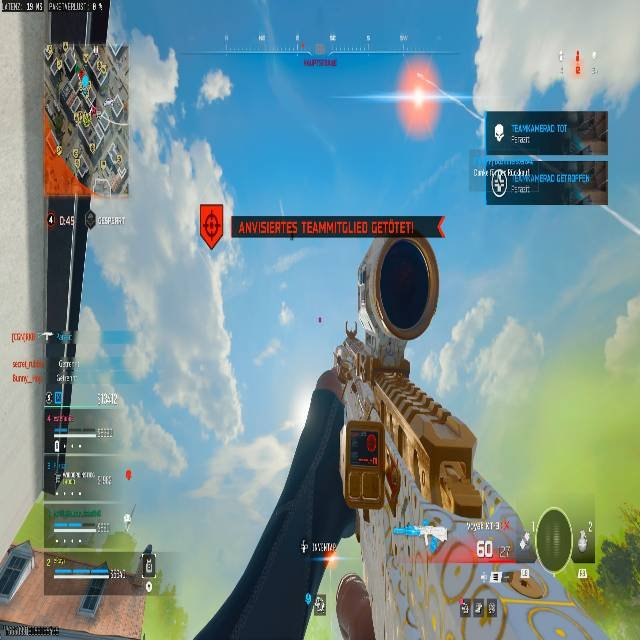player: (520, 531, 529, 550)
